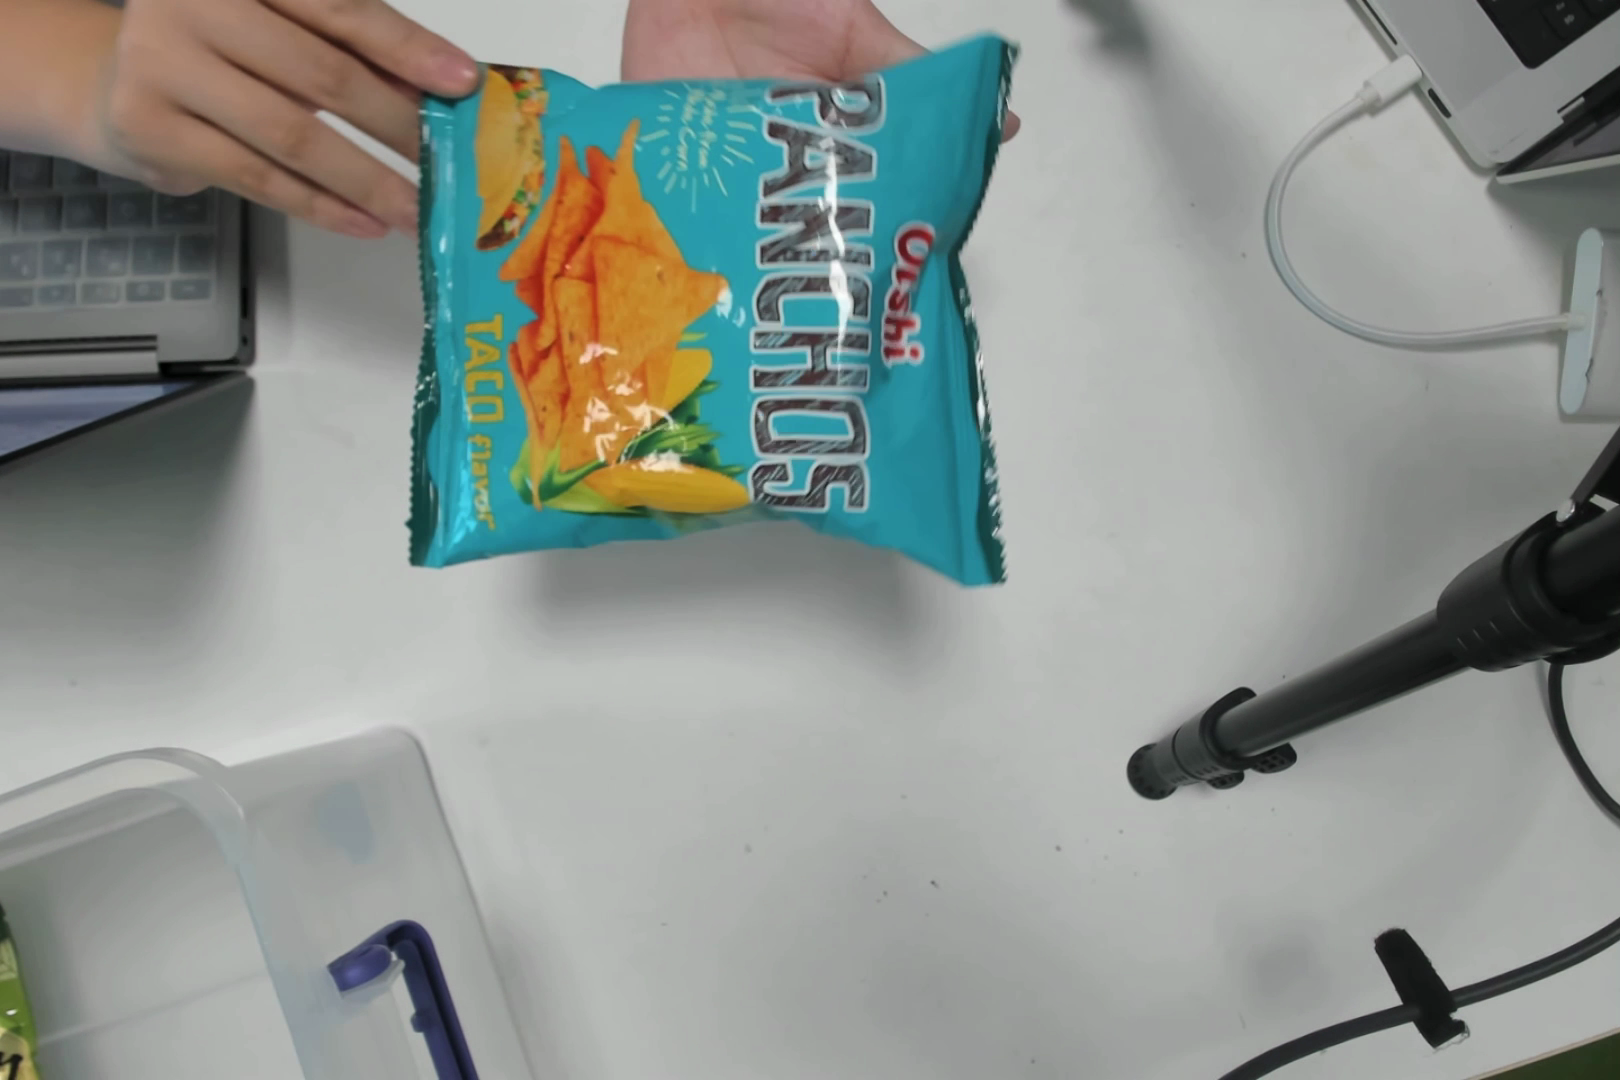PotatochipsKeropok_1-99g_NonHalal_NonHealthy: (459, 58, 1009, 589)
